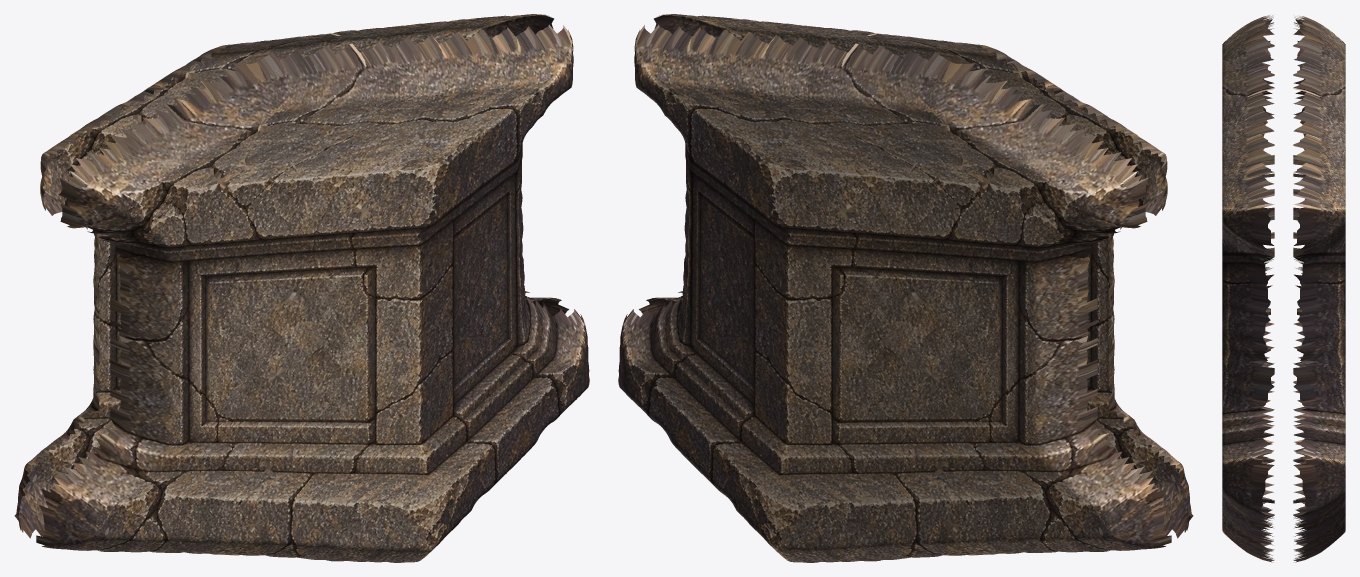
File: v4-shrine-scatter-cracked-plinth.glb
The picture shows the model from 3 angles, left to right: view 1: azimuth 30°, elevation 25°; view 2: azimuth 150°, elevation 25°; view 3: azimuth 270°, elevation 25°; orthographic projection. The views are drawn at different scales.
Parts seen in each view (by area): view 1: v4-shrine-scatter-cracked-plinth; view 2: v4-shrine-scatter-cracked-plinth; view 3: v4-shrine-scatter-cracked-plinth.
Boxes of the visible parts, box(x1,y1,x2,y2) form: v4-shrine-scatter-cracked-plinth: box(14, 14, 589, 562); v4-shrine-scatter-cracked-plinth: box(618, 14, 1193, 562); v4-shrine-scatter-cracked-plinth: box(1222, 15, 1345, 562).
Bounding box in the file's own units: 0.9992 × 0.9374 × 0.228.
1 material, 1 textured.
